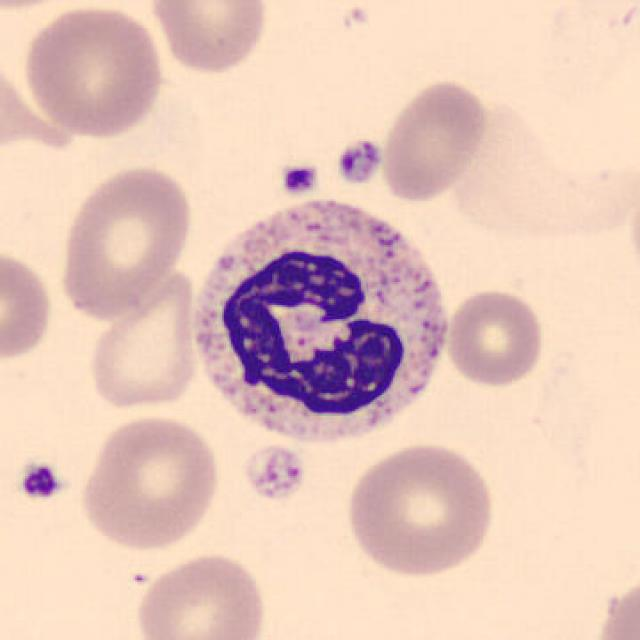Neutrophil: (180, 188, 455, 456)
Platelets: (242, 443, 306, 504), (332, 136, 386, 187), (14, 458, 66, 504), (276, 160, 322, 200)
RBC: (55, 160, 196, 321), (446, 95, 596, 244), (342, 439, 499, 578), (75, 411, 224, 554), (18, 2, 167, 141), (84, 266, 202, 414), (377, 76, 491, 204), (130, 548, 270, 640), (442, 286, 548, 390), (146, 0, 272, 76), (0, 243, 57, 367), (588, 569, 640, 640)
